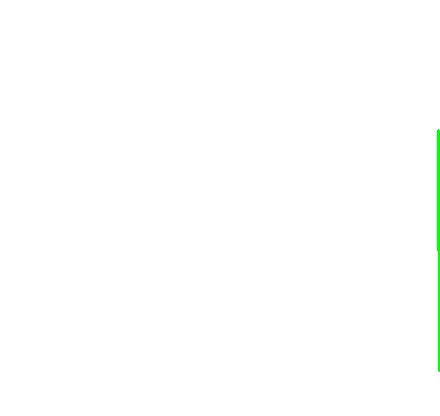line_segment: (437, 130, 440, 371)
